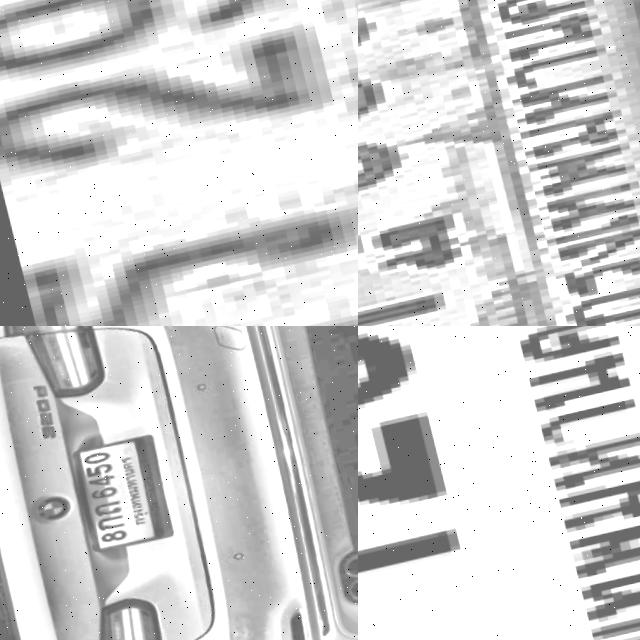license-plate: (0, 0, 358, 326), (358, 0, 640, 326), (358, 326, 640, 640), (60, 439, 159, 558)
